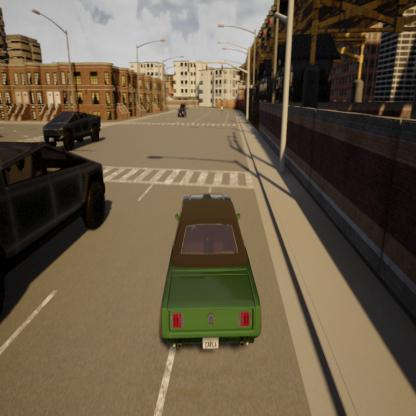Cars: (149, 179, 269, 362), (0, 142, 112, 334), (41, 106, 106, 154), (176, 106, 186, 118)
